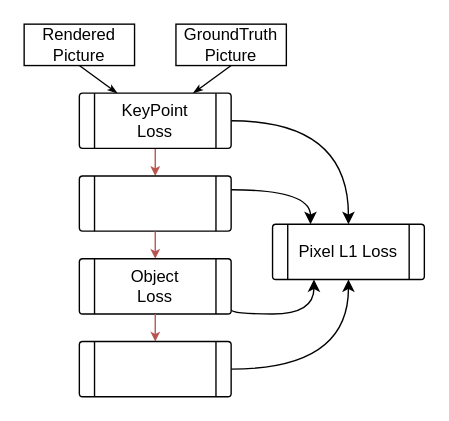
Some shapes in this 449 by 421 pixel diagram are drawn without their labels. Each missing label, with the centre of its shape:
"Patch Flow Loss" belongs at (x=154, y=203).
"Scene Loss" belongs at (x=154, y=368).
